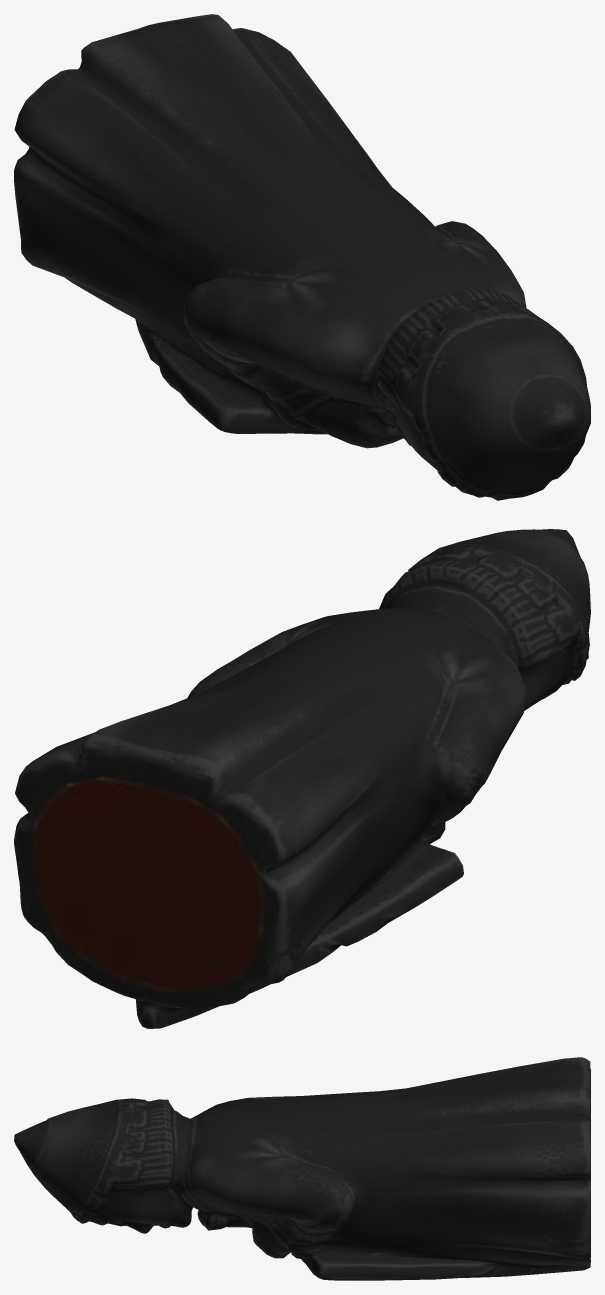
File: modelf.obj
The picture shows the model from 3 angles, top to bottom: view 1: azimuth 30°, elevation 25°; view 2: azimuth 150°, elevation 25°; view 3: azimuth 270°, elevation 25°; orthographic projection. The views are drawn at different scales.
Parts seen in each view (by area): view 1: mmGroup0; view 2: mmGroup0; view 3: mmGroup0.
Part boxes in pixels (bbox=[...]): mmGroup0: bbox=[14, 14, 590, 500]; mmGroup0: bbox=[14, 529, 590, 1028]; mmGroup0: bbox=[14, 1057, 590, 1280].
Size of the model in its own units: 3.87 by 3.57 by 9.68.
1 material, 1 textured.
